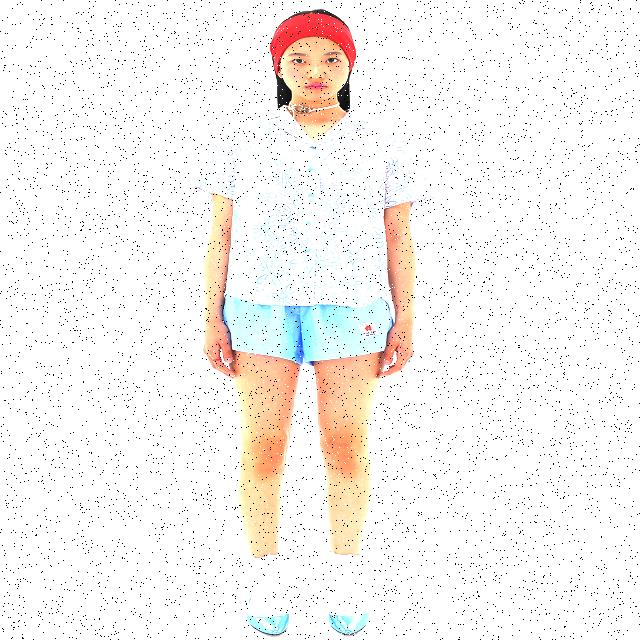Blouse_deep: (205, 100, 428, 300), (209, 296, 389, 366)
